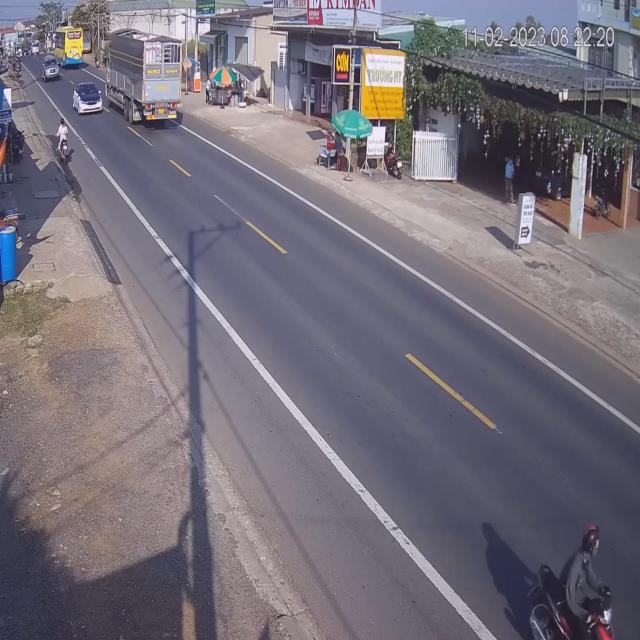bus: (53, 28, 82, 66)
car: (73, 80, 103, 116), (42, 53, 62, 82)
motorbike: (528, 522, 618, 638), (56, 120, 74, 162)
truck: (104, 32, 182, 117)
